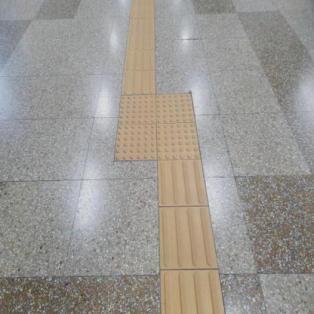Podoctatil: (100, 68, 232, 192), (157, 159, 226, 314), (122, 0, 156, 93)
